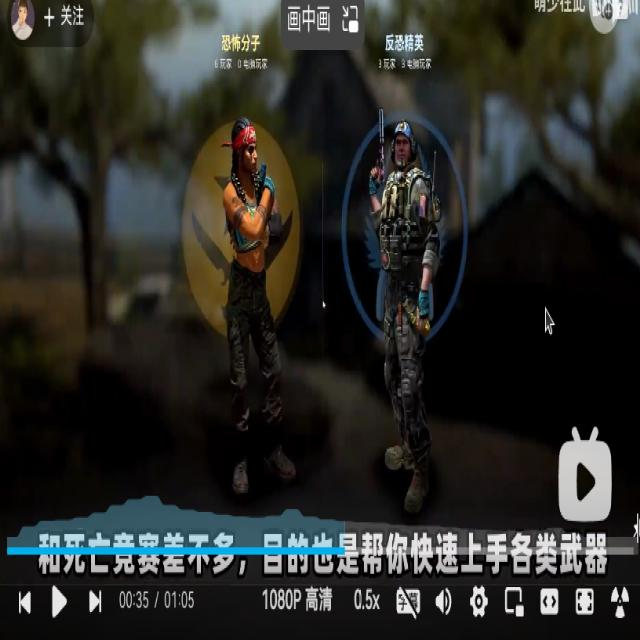person: (219, 117, 301, 499), (370, 107, 444, 517)
